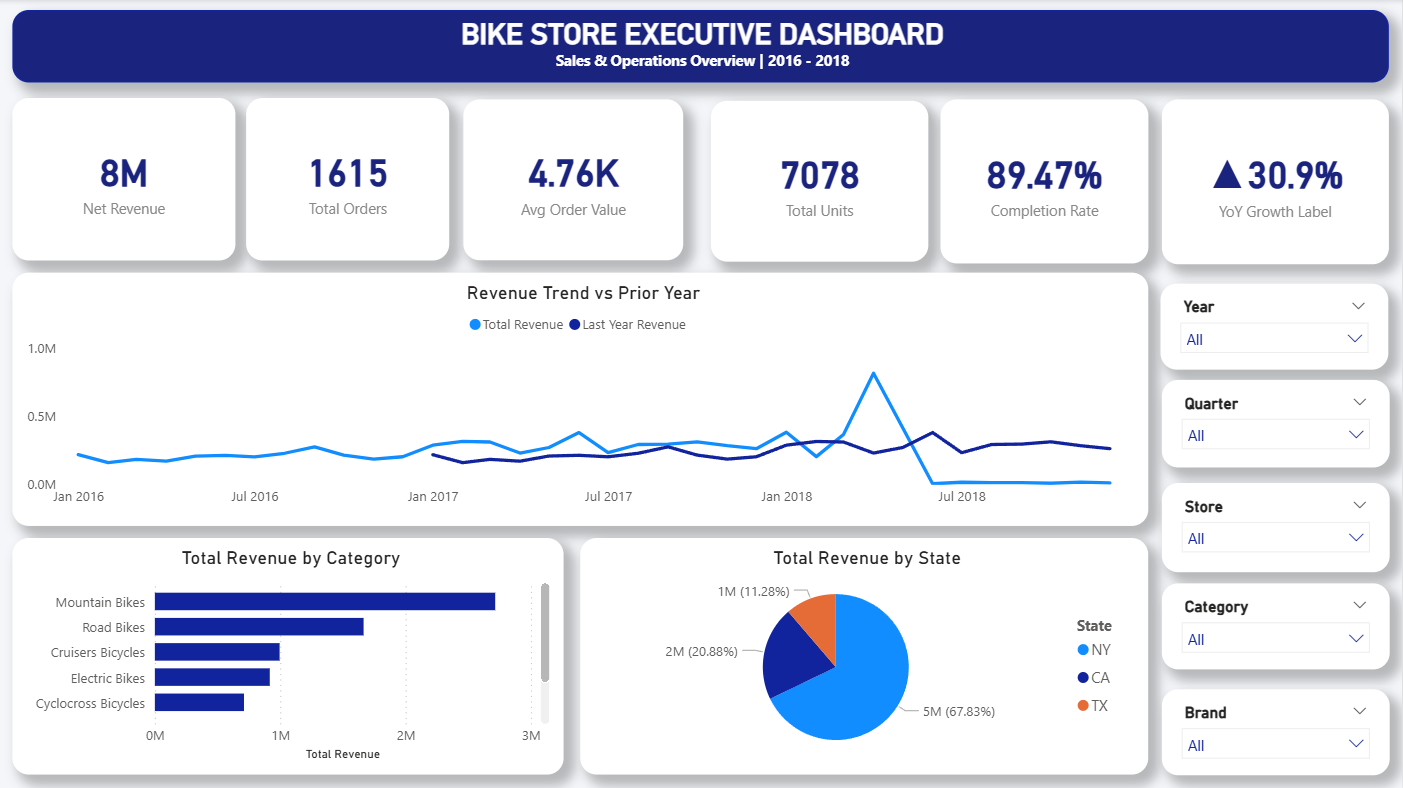

The dashboard page shown, as its layout file describes it:
{"tool":"powerbi","page":{"name":"Executive Summary","canvas":[1280,720],"ordinal":0},"visuals":[{"type":"textbox","title":"BIKE STORE EXECUTIVE DASHBOARD","box":[11,9.6,1257,66],"z":0},{"type":"card","fields":{"Values":["_Measures.Total Revenue"]},"box":[11,90.8,203.5,148.5],"z":1000},{"type":"card","fields":{"Values":["_Measures.Total Orders"]},"box":[224.2,90.8,185.7,148.5],"z":2000},{"type":"card","fields":{"Values":["_Measures.Avg Order Value"]},"box":[423.6,92.1,200.8,147.2],"z":3000},{"type":"card","fields":{"Values":["_Measures.Total Units"]},"box":[648.6,92.9,198.6,147.1],"z":4000},{"type":"card","fields":{"Values":["_Measures.Completion Rate"]},"box":[858.6,91.4,190,150],"z":5000},{"type":"card","fields":{"Values":["_Measures.YoY Growth Label"]},"box":[1061.3,91.1,207,150.4],"z":6000},{"type":"lineChart","title":"Revenue Trend vs Prior Year","fields":{"Y":["_Measures.Total Revenue","_Measures.Last Year Revenue"],"Category":["dim_date.MonthStart"]},"box":[11,250.3,1037,231],"z":7000},{"type":"clusteredBarChart","title":"Total Revenue by Category","fields":{"Category":["dim_products.Category_Name"],"Y":["_Measures.Total Revenue"]},"box":[11,492.3,503.4,215.9],"z":8000},{"type":"pieChart","title":"Total Revenue by State","fields":{"Category":["dim_stores.state"],"Y":["_Measures.Total Revenue"]},"box":[529.5,492.3,518.5,215.9],"z":9000},{"type":"slicer","fields":{"Values":["dim_date.Year"]},"box":[1059,259.9,207.7,78.4],"z":10000},{"type":"slicer","fields":{"Values":["dim_date.Quarter"]},"box":[1060.3,347.9,207.7,79.8],"z":11000},{"type":"slicer","fields":{"Values":["dim_stores.store_name"]},"box":[1060.3,441.5,207.7,81.1],"z":12000},{"type":"slicer","fields":{"Values":["dim_categories.category_name"]},"box":[1060.3,533.6,207.7,78.4],"z":13000},{"type":"slicer","fields":{"Values":["dim_brands.brand_name"]},"box":[1060.3,629.9,207.7,78.4],"z":14000}]}

Visuals, with their boxes in screenshot pixels (x1, y1, x2, y2), scaled from the page's 1280x720 canvas onto the 1403x788 screenshot:
"BIKE STORE EXECUTIVE DASHBOARD" textbox: bbox=(12, 11, 1390, 83)
card - _Measures.Total Revenue: bbox=(12, 99, 235, 262)
card - _Measures.Total Orders: bbox=(246, 99, 449, 262)
card - _Measures.Avg Order Value: bbox=(464, 101, 684, 262)
card - _Measures.Total Units: bbox=(711, 102, 929, 263)
card - _Measures.Completion Rate: bbox=(941, 100, 1149, 264)
card - _Measures.YoY Growth Label: bbox=(1163, 100, 1390, 264)
"Revenue Trend vs Prior Year" lineChart: bbox=(12, 274, 1149, 527)
"Total Revenue by Category" clusteredBarChart: bbox=(12, 539, 564, 775)
"Total Revenue by State" pieChart: bbox=(580, 539, 1149, 775)
slicer - dim_date.Year: bbox=(1161, 284, 1388, 370)
slicer - dim_date.Quarter: bbox=(1162, 381, 1390, 468)
slicer - dim_stores.store_name: bbox=(1162, 483, 1390, 572)
slicer - dim_categories.category_name: bbox=(1162, 584, 1390, 670)
slicer - dim_brands.brand_name: bbox=(1162, 689, 1390, 775)
